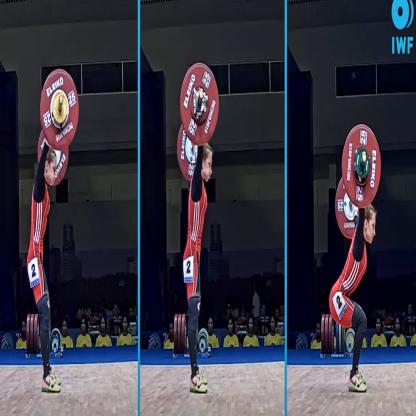Barbell: (338, 115, 384, 211), (36, 61, 82, 154), (173, 60, 220, 148)
